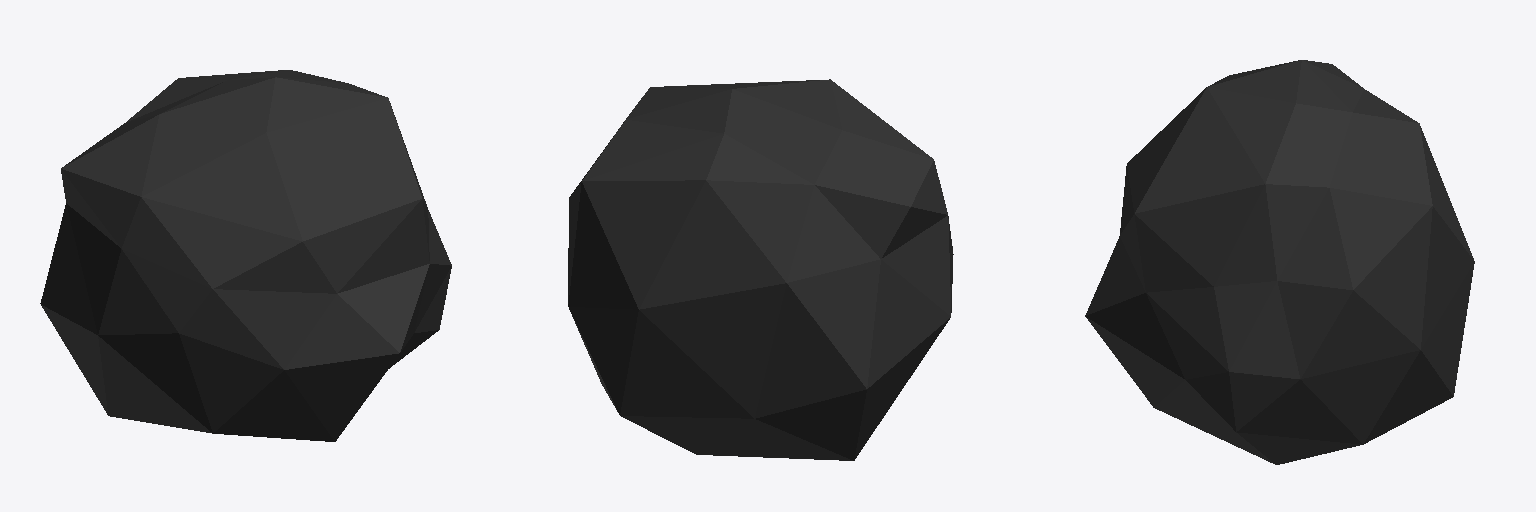
File: rock1.obj
3 renders of one model, left to right at view 1: azimuth 30°, elevation 25°; view 2: azimuth 150°, elevation 25°; view 3: azimuth 270°, elevation 25°, orthographic.
Parts seen in each view (by area): view 1: Icosphere; view 2: Icosphere; view 3: Icosphere.
Part boxes in pixels (x1,y1,x2,y2): Icosphere: (40,70,451,441); Icosphere: (568,79,953,460); Icosphere: (1085,60,1474,464).
Bounding box in the file's own units: 0.4927 × 0.4584 × 0.4872.